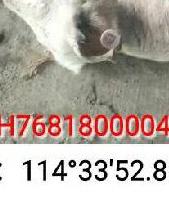text: (93, 16, 130, 60)
